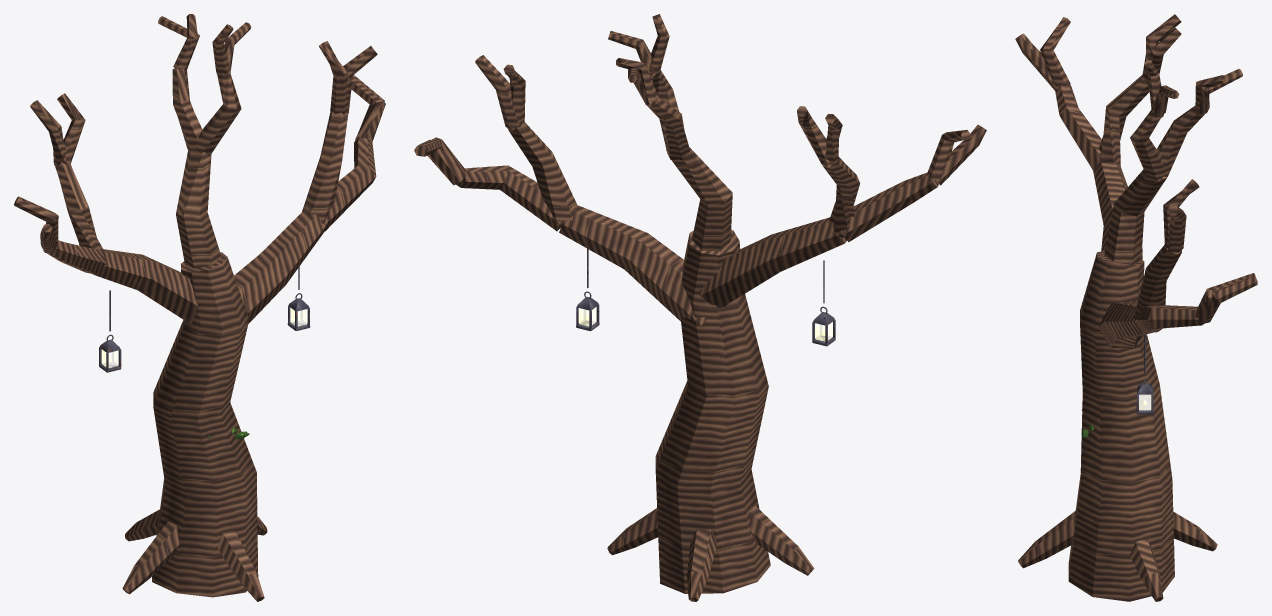
Rendered from dead_tree.gltf.
The picture shows the model from 3 angles, left to right: view 1: azimuth 30°, elevation 25°; view 2: azimuth 150°, elevation 25°; view 3: azimuth 270°, elevation 25°; orthographic projection. The views are drawn at different scales.
Parts seen in each view (by area): view 1: dead_tree_mesh; view 2: dead_tree_mesh; view 3: dead_tree_mesh.
Boxes of the visible parts, x1,y1,x2,y2 form: dead_tree_mesh: (14, 14, 385, 601); dead_tree_mesh: (414, 14, 986, 601); dead_tree_mesh: (1015, 14, 1257, 601).
Size of what is drawn, in the model's own units: 5.16 by 5.95 by 2.43.
6 materials, 3 textured.
